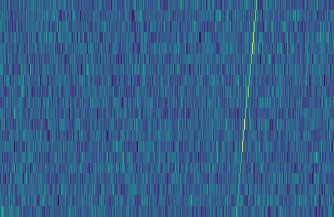signal: (232, 0, 263, 217)
